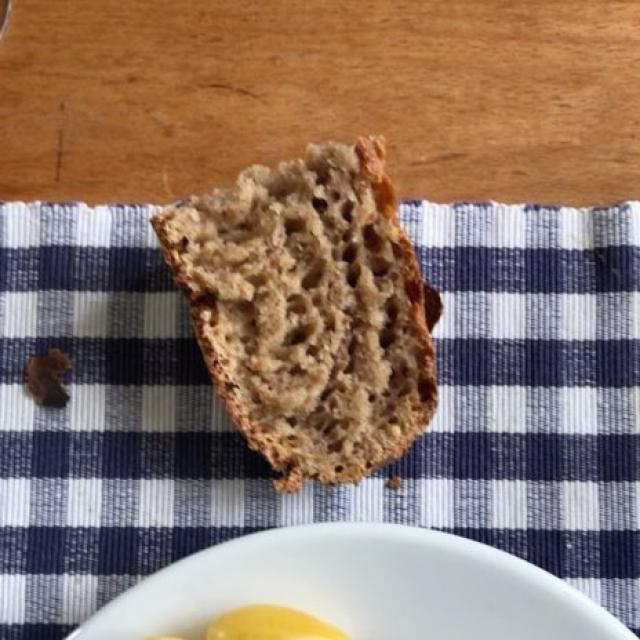bread-wholemeal: (150, 146, 434, 485)
